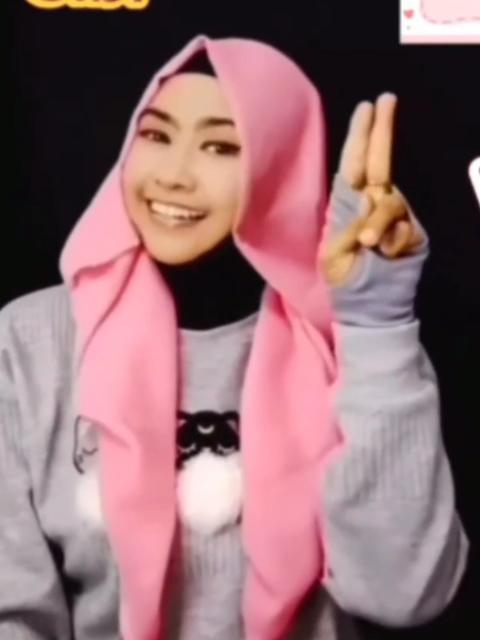U: (314, 87, 436, 320)
